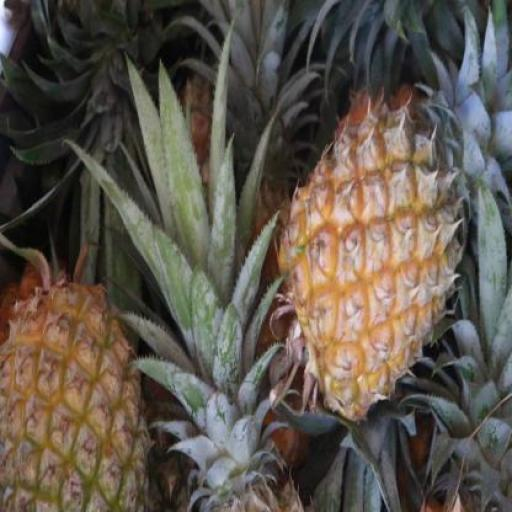------------------------------: (0, 284, 154, 511)
Pineapple - v8 v1: (282, 98, 484, 418)
